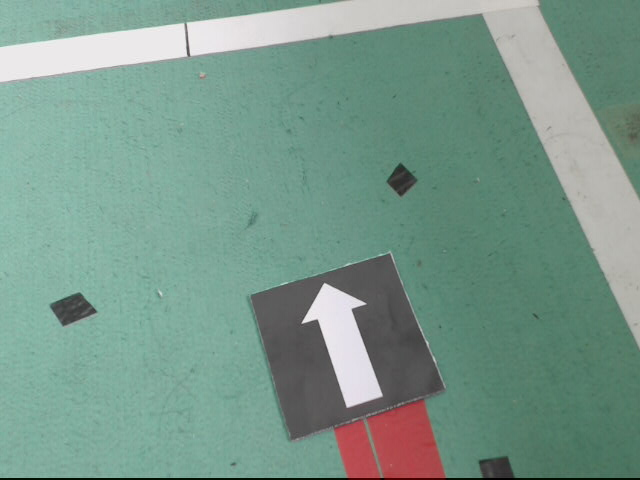straight: (247, 249, 443, 442)
